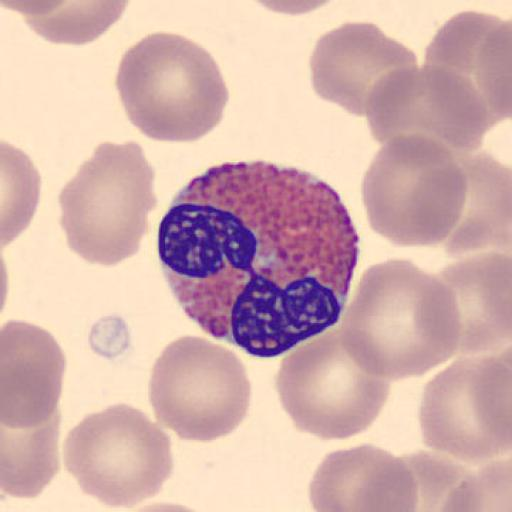Platelet: (83, 310, 137, 363)
RBC: (340, 256, 464, 380), (114, 28, 230, 145), (58, 138, 158, 268), (274, 332, 392, 442), (358, 131, 467, 250), (62, 401, 176, 509), (147, 333, 254, 444), (0, 317, 65, 499), (362, 64, 488, 157), (420, 8, 512, 132), (307, 19, 420, 119), (416, 356, 511, 463), (432, 251, 512, 356), (438, 151, 512, 259), (306, 441, 419, 511), (2, 318, 68, 430), (451, 11, 512, 131), (9, 0, 132, 47), (2, 408, 61, 502), (390, 447, 470, 512), (2, 138, 42, 250), (438, 454, 512, 512), (475, 16, 512, 131), (243, 0, 350, 17), (436, 479, 483, 512), (115, 500, 223, 512), (0, 0, 75, 17)
WBC: (156, 158, 362, 358)
